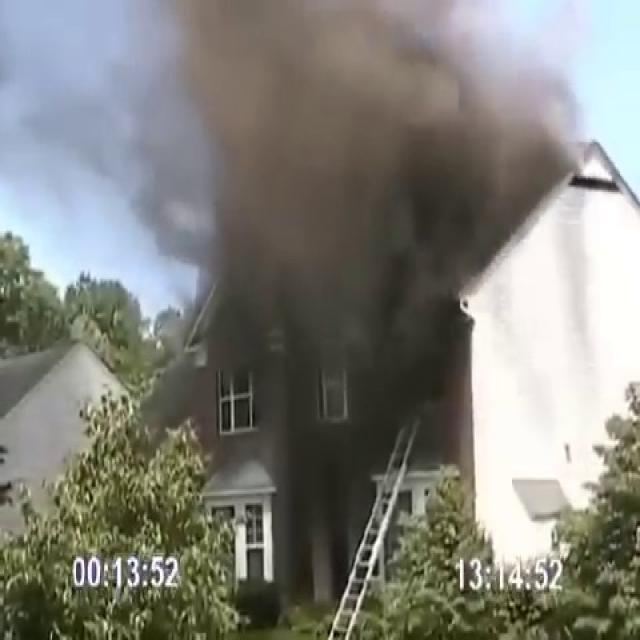Smoke: (114, 0, 620, 411)
